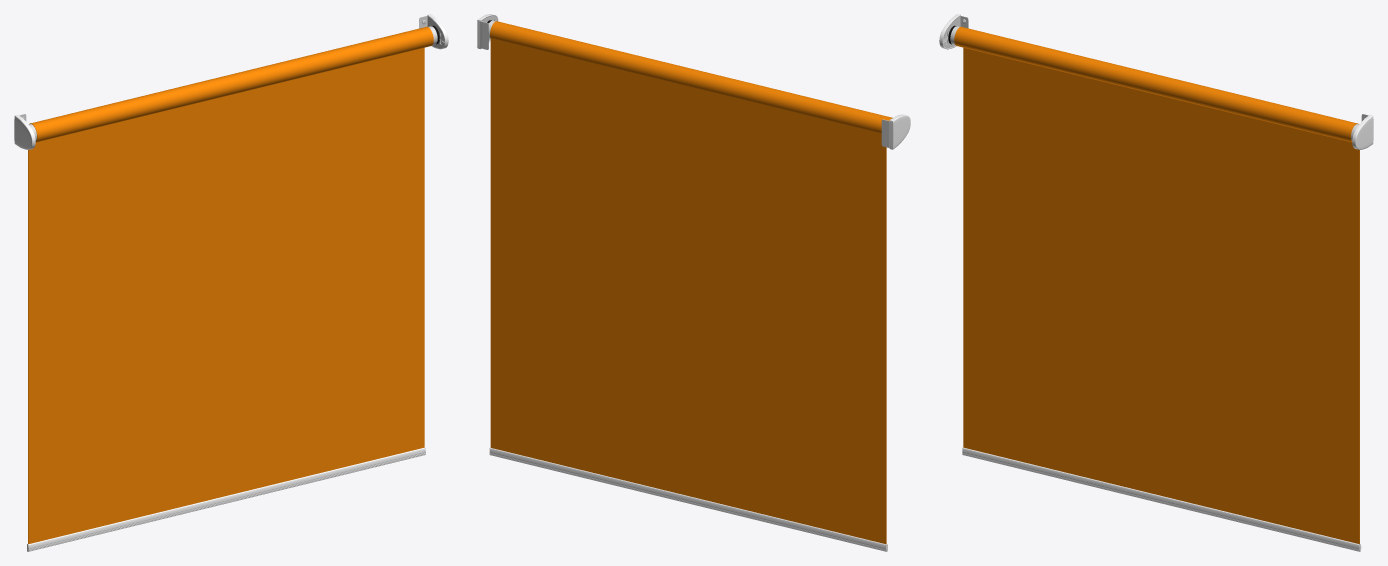
File: Federzug-Softrollo.glb
3 renders of one model, left to right at view 1: azimuth 30°, elevation 25°; view 2: azimuth 150°, elevation 25°; view 3: azimuth 330°, elevation 25°, orthographic.
Parts seen in each view (by area): view 1: Stoff.001, Stoffende.001, Cube.004, Cube.008; view 2: Stoff.001, Stoffende.001, Cube.004, Cube.008; view 3: Stoff.001, Stoffende.001, Cube.004, Cube.001.
Part boxes in pixels (left/top/right/bottom): Stoff.001: left=28, top=47, right=424, bottom=544; Stoffende.001: left=29, top=26, right=433, bottom=142; Cube.004: left=28, top=447, right=425, bottom=551; Cube.008: left=14, top=114, right=35, bottom=149; Stoff.001: left=490, top=38, right=886, bottom=544; Stoffende.001: left=490, top=21, right=892, bottom=133; Cube.004: left=490, top=448, right=886, bottom=551; Cube.008: left=889, top=114, right=910, bottom=149; Stoff.001: left=963, top=47, right=1359, bottom=544; Stoffende.001: left=954, top=26, right=1358, bottom=142; Cube.004: left=962, top=447, right=1359, bottom=551; Cube.001: left=1352, top=114, right=1373, bottom=149.
Size of the model in its own units: 0.9997 by 0.9998 by 0.074.
6 materials, 1 textured.
